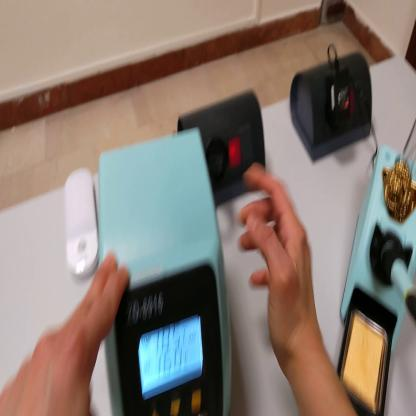hand: (2, 248, 131, 415), (240, 165, 318, 365)
socket: (178, 90, 270, 208), (291, 45, 376, 162)
welder base: (332, 122, 416, 414)
welder probe tip: (387, 249, 415, 321)
welder station: (101, 124, 234, 416)
